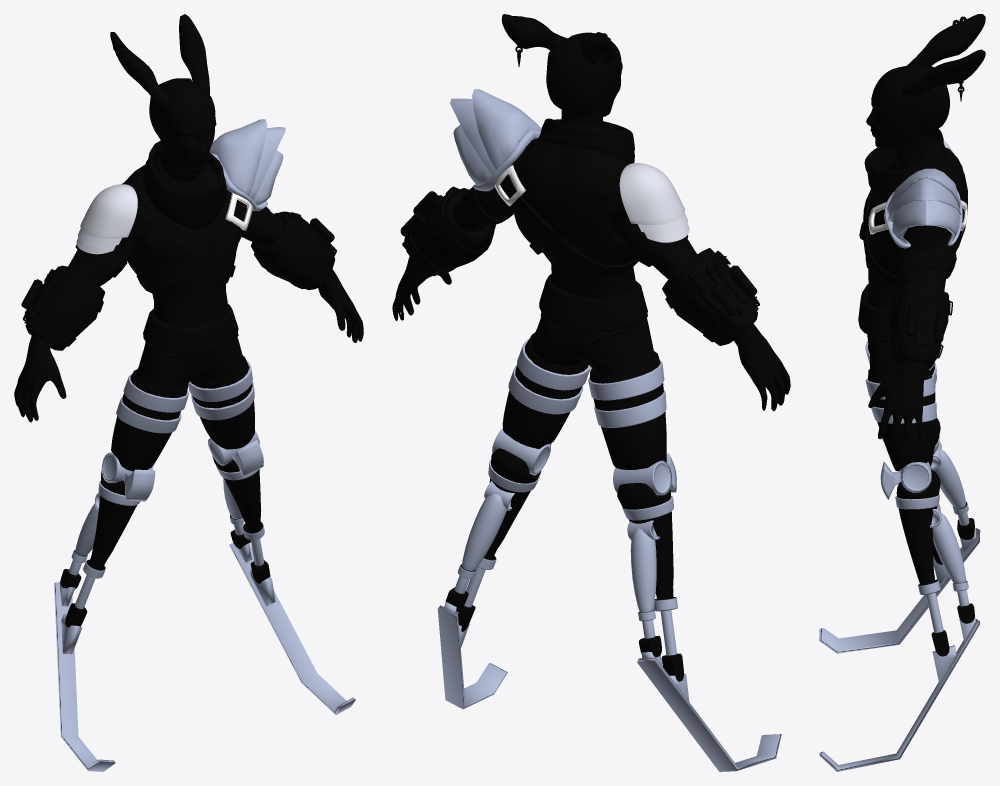
The model's file is greyhareUnriged_fbx_006.fbx.
3 views of the same model, side by side, from view 1: azimuth 30°, elevation 25°; view 2: azimuth 150°, elevation 25°; view 3: azimuth 270°, elevation 25° (orthographic). The views are drawn at different scales.
Visible parts, largest first — view 1: GreyHare_Low; view 2: GreyHare_Low; view 3: GreyHare_Low.
Part boxes in pixels (<box>): GreyHare_Low: <box>14,14,363,771</box>; GreyHare_Low: <box>392,14,790,771</box>; GreyHare_Low: <box>819,14,985,771</box>.
Size of the model in its own units: 109 by 207 by 45.98.
